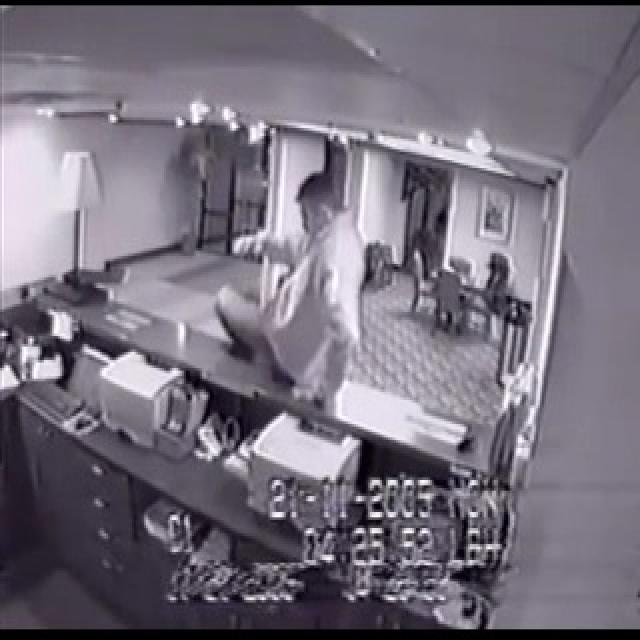thief: (230, 180, 371, 455)
